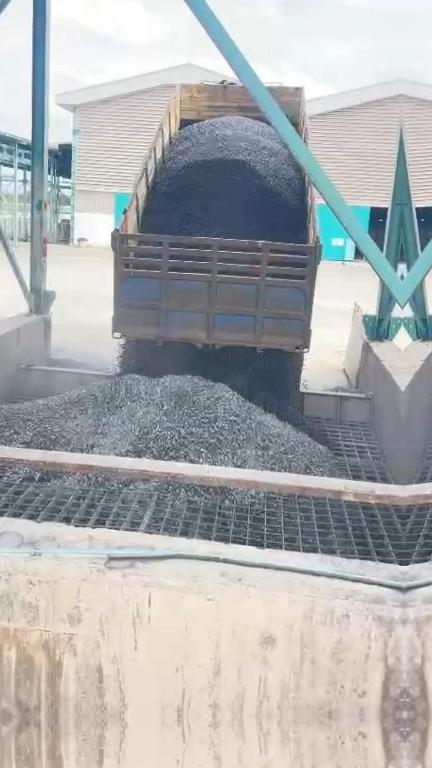gravel: (0, 375, 335, 475), (142, 117, 306, 242), (120, 341, 302, 423), (0, 467, 248, 510)
